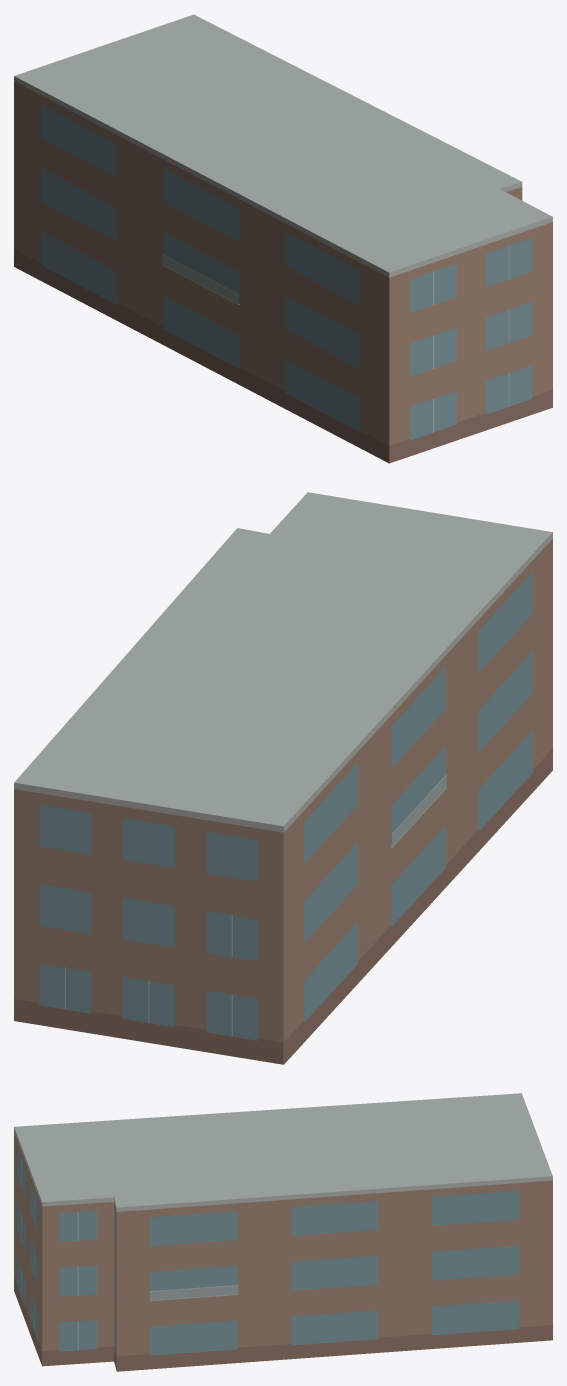
File: survey-upis-32800105.glb
3 renders of one model, top to bottom at view 1: azimuth 30°, elevation 25°; view 2: azimuth 150°, elevation 25°; view 3: azimuth 270°, elevation 25°, orthographic. The views are drawn at different scales.
Parts seen in each view (by area): view 1: survey-upis-32800105.tmp; view 2: survey-upis-32800105.tmp; view 3: survey-upis-32800105.tmp.
Boxes of the visible parts, x1,y1,x2,y2 form: survey-upis-32800105.tmp: (14,14,552,463); survey-upis-32800105.tmp: (14,492,552,1064); survey-upis-32800105.tmp: (14,1093,552,1371).
Bounding box in the file's own units: 13.7 × 9.15 × 27.25.
